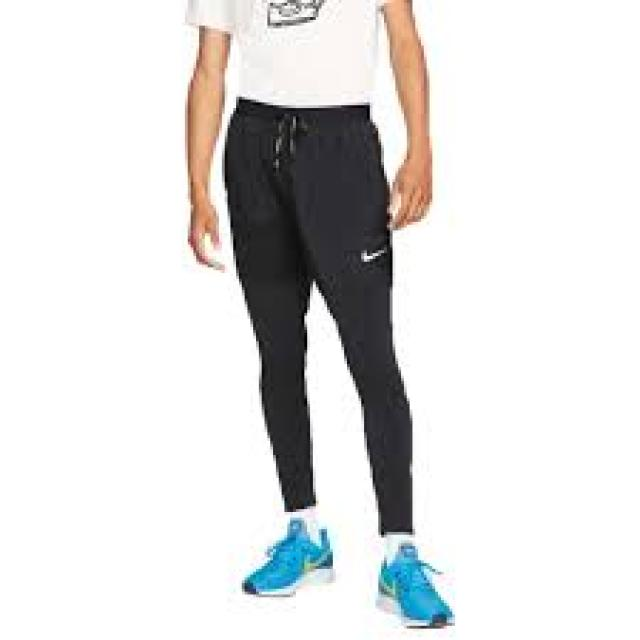pants: (221, 92, 423, 539)
